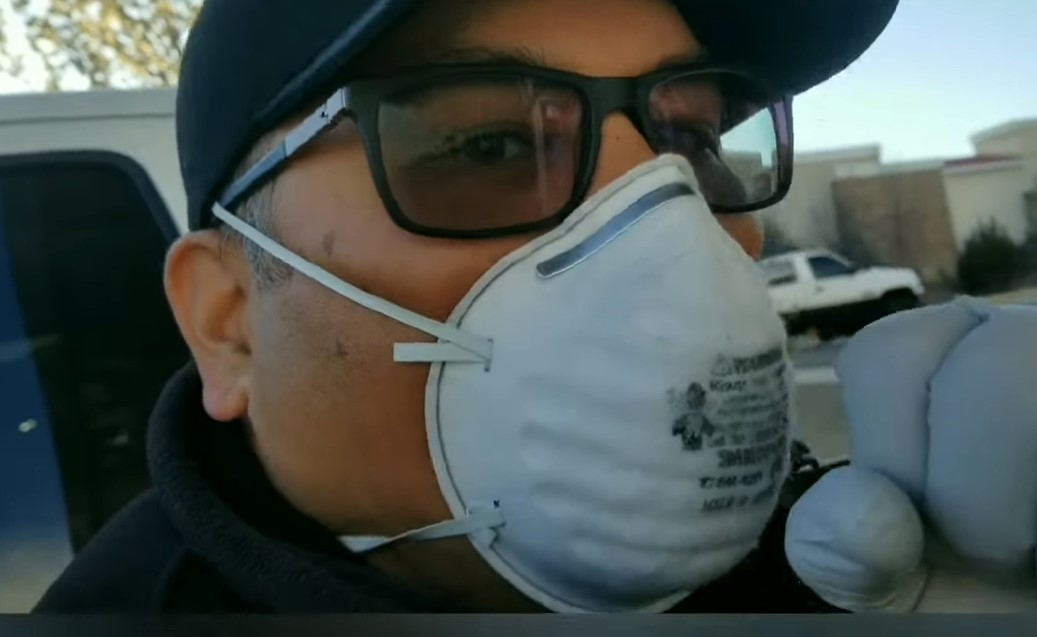face_with_mask: (158, 1, 899, 619)
